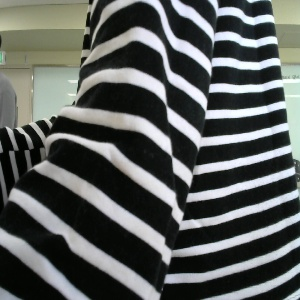Drone: (4, 45, 293, 293)
